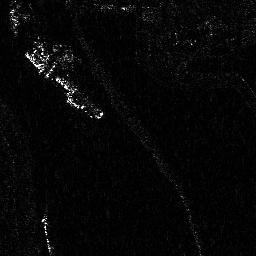ship: (41, 213, 55, 252)
